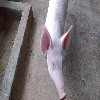heo: (37, 24, 75, 99)
